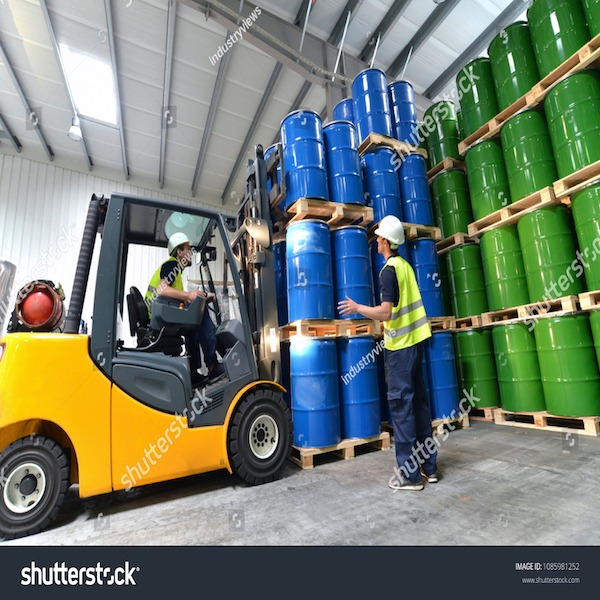helmet: (376, 217, 408, 244), (166, 231, 192, 254)
vest: (378, 259, 436, 347), (152, 262, 187, 303)
